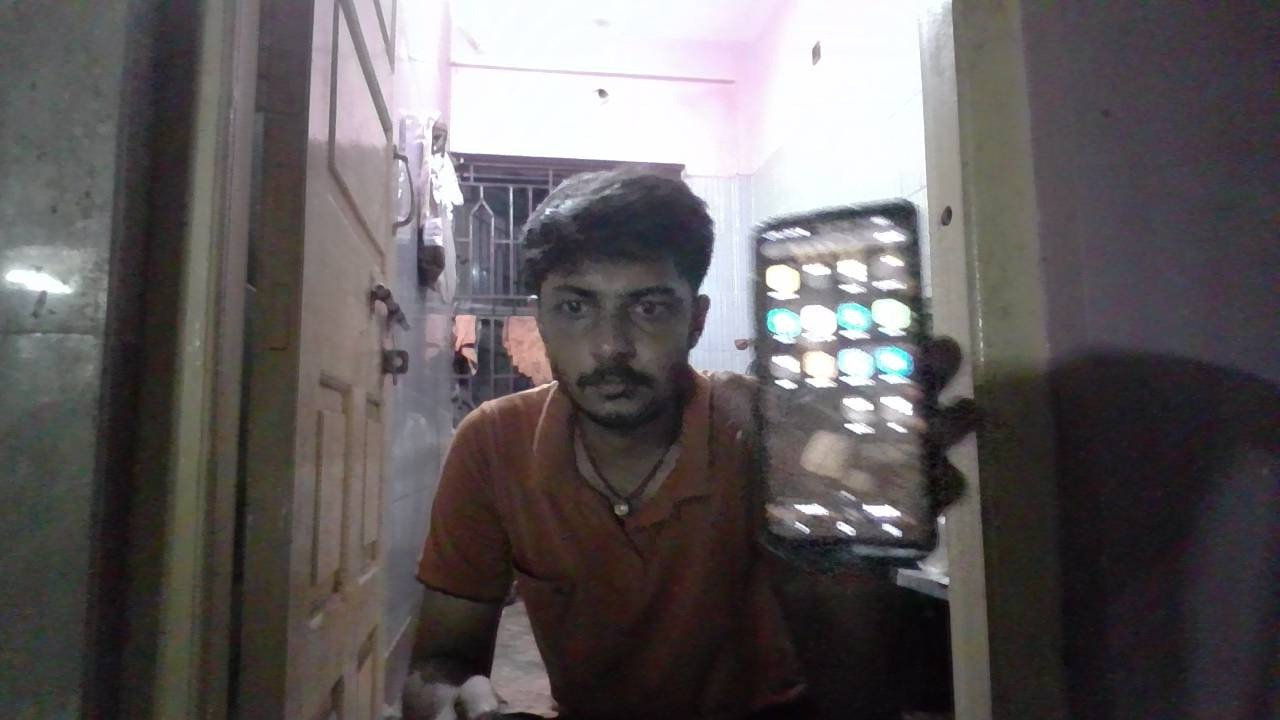red_box: (418, 396, 594, 586)
